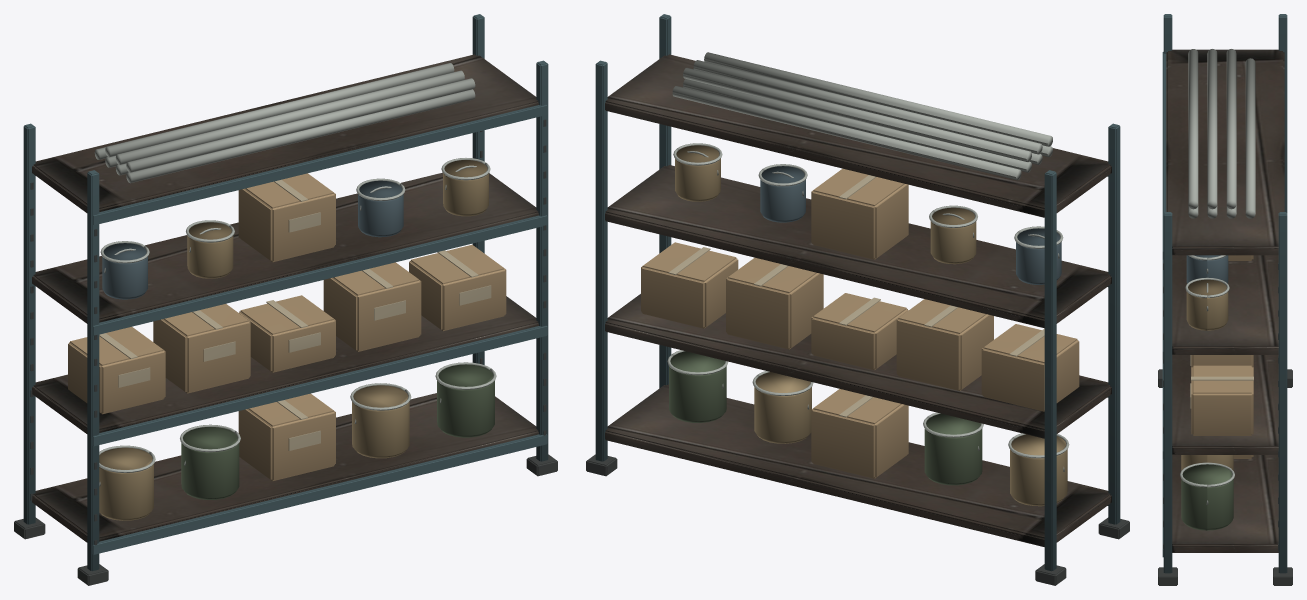
The model's file is hardware-stock-rack.glb.
The picture shows the model from 3 angles, left to right: view 1: azimuth 30°, elevation 25°; view 2: azimuth 150°, elevation 25°; view 3: azimuth 270°, elevation 25°; orthographic projection. The views are drawn at different scales.
Visible parts, largest first — view 1: Frame; view 2: Frame; view 3: Frame.
Part boxes in pixels (bbox=[...]): Frame: bbox=[14, 14, 557, 585]; Frame: bbox=[586, 14, 1129, 585]; Frame: bbox=[1158, 14, 1292, 585].
Bounding box in the file's own units: 2.45 × 2.03 × 0.674.
9 materials, 1 textured.
